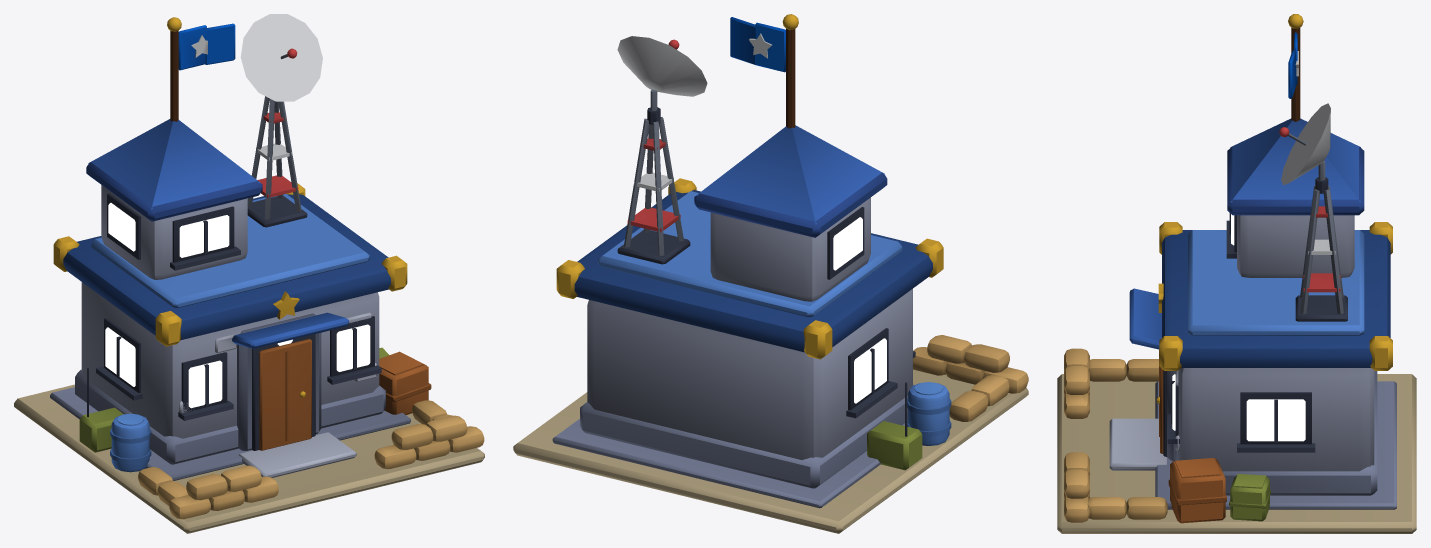
Rendered from o_zentrale.glb.
The picture shows the model from 3 angles, left to right: view 1: azimuth 30°, elevation 25°; view 2: azimuth 150°, elevation 25°; view 3: azimuth 270°, elevation 25°; orthographic projection. The views are drawn at different scales.
Parts seen in each view (by area): view 1: body, win_glow, spin_dish, sway_flag; view 2: body, spin_dish, win_glow, sway_flag; view 3: body, win_glow, spin_dish, sway_flag.
Part boxes in pixels (x1,y1,x2,y2): body: (14, 17, 484, 533); win_glow: (105, 203, 370, 408); spin_dish: (240, 14, 322, 101); sway_flag: (178, 23, 235, 70); body: (513, 14, 1028, 533); spin_dish: (617, 36, 707, 110); win_glow: (833, 217, 886, 403); sway_flag: (730, 17, 785, 72); body: (1057, 14, 1416, 533); win_glow: (1172, 214, 1305, 441); spin_dish: (1279, 103, 1330, 185); sway_flag: (1288, 32, 1298, 98).
Size of the model in its own units: 5.63 by 7.13 by 5.5.
